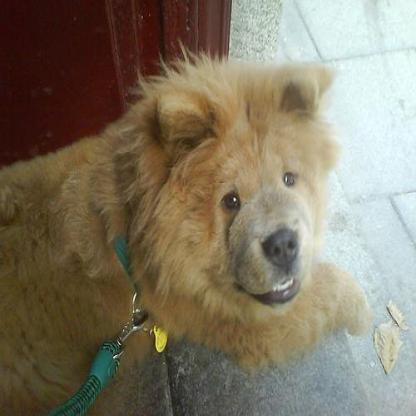chow: (0, 39, 369, 414)
